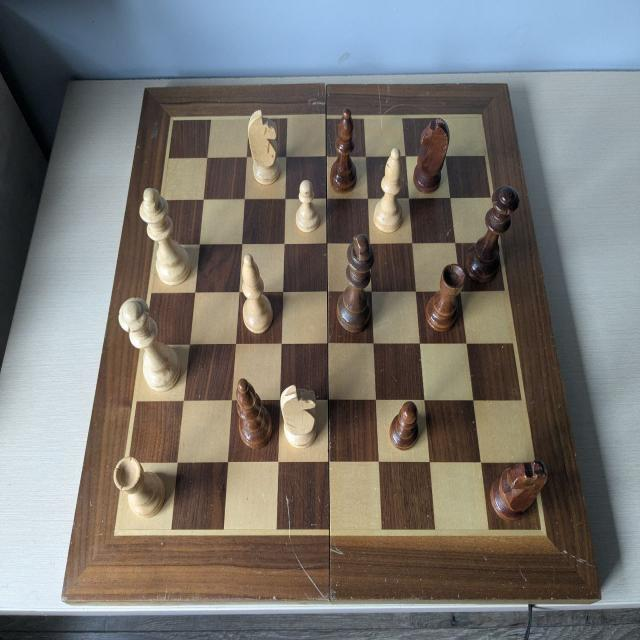black_bishop: (235, 377, 273, 449), (330, 106, 356, 192)
black_king: (336, 234, 373, 333)
black_knight: (489, 462, 548, 521), (414, 119, 449, 194)
black_pawn: (390, 401, 419, 452)
black_queen: (464, 186, 519, 283)
black_rook: (424, 263, 464, 332)
white_bishop: (241, 254, 274, 335), (374, 147, 404, 230)
white_king: (137, 188, 191, 286)
white_knight: (248, 109, 280, 184), (280, 385, 317, 448)
white_pawn: (296, 180, 321, 232)
white_queen: (118, 297, 182, 393)
white_rook: (113, 455, 165, 518)
